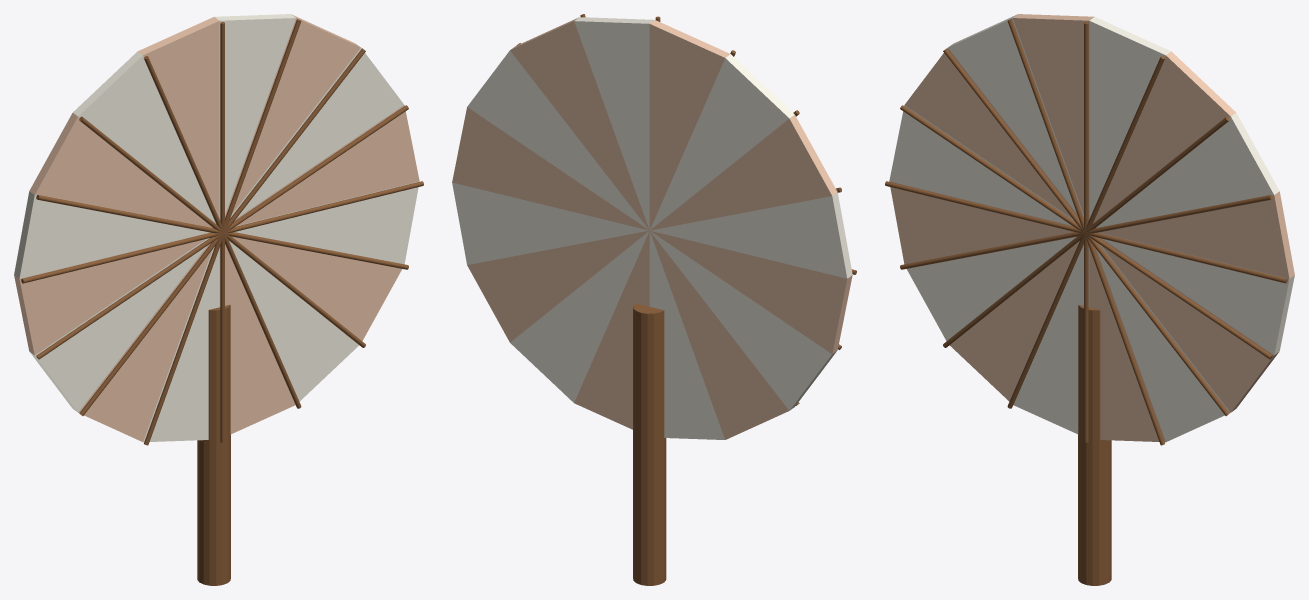
The model's file is scendance-plan-cn-round-fan.glb.
The picture shows the model from 3 angles, left to right: view 1: azimuth 30°, elevation 25°; view 2: azimuth 150°, elevation 25°; view 3: azimuth 330°, elevation 25°; orthographic projection.
Size of the model in its own units: 0.38 by 0.51 by 0.03.
